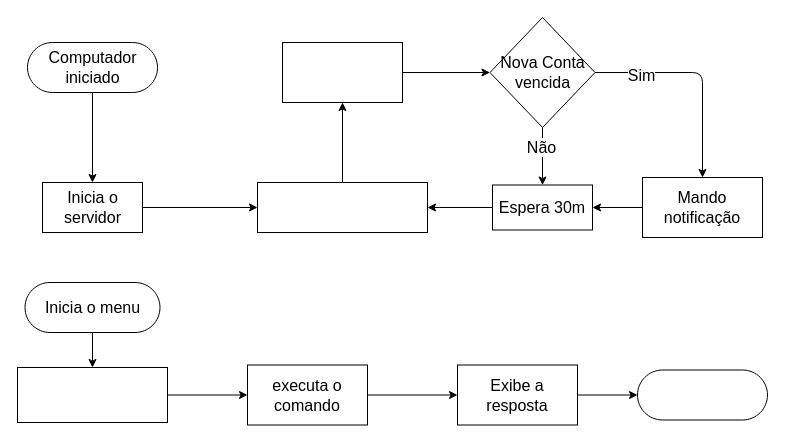
Some shapes in this 785 by 443 pixel diagram are drawn without their labels. The shapes that lost their labels are listed below. From the top down, each one's centre as x and y in pixels, then its label:
the point at 342,72: Verifica contas em atraso
the point at 342,207: Atualiza os dados do servidor
the point at 92,394: Detecta o comando utilizado
the point at 702,394: Fim
